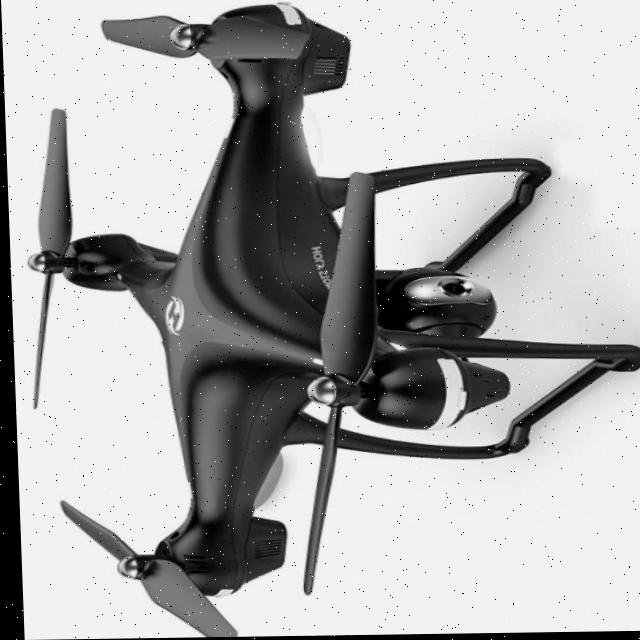drone: (9, 0, 510, 633)
